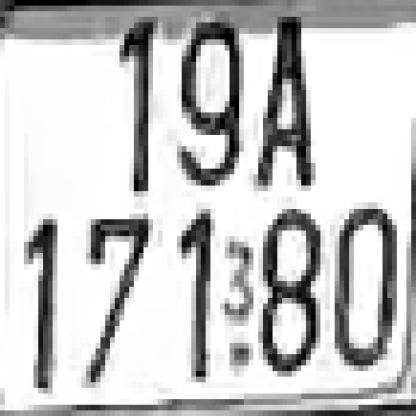0: (330, 202, 392, 366)
1: (19, 208, 77, 394), (110, 17, 167, 197), (168, 208, 210, 377)
7: (86, 208, 153, 377)
8: (254, 208, 320, 371)
9: (182, 23, 239, 191)
A: (254, 17, 315, 191)
